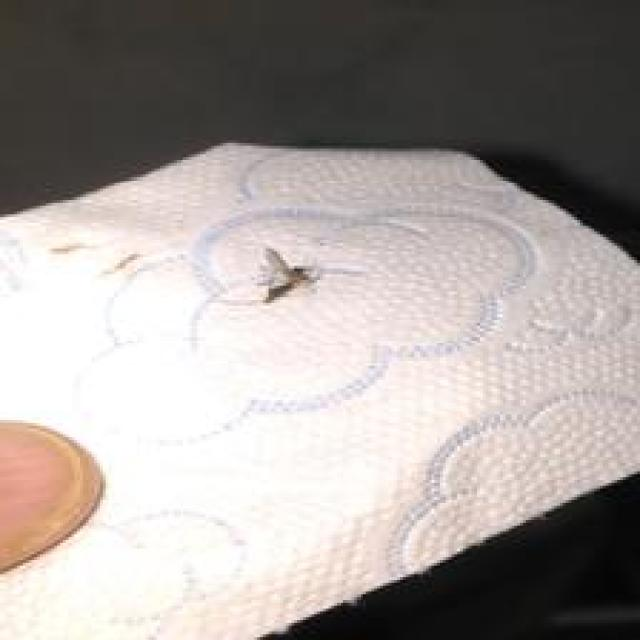Culex: (256, 244, 367, 304)
